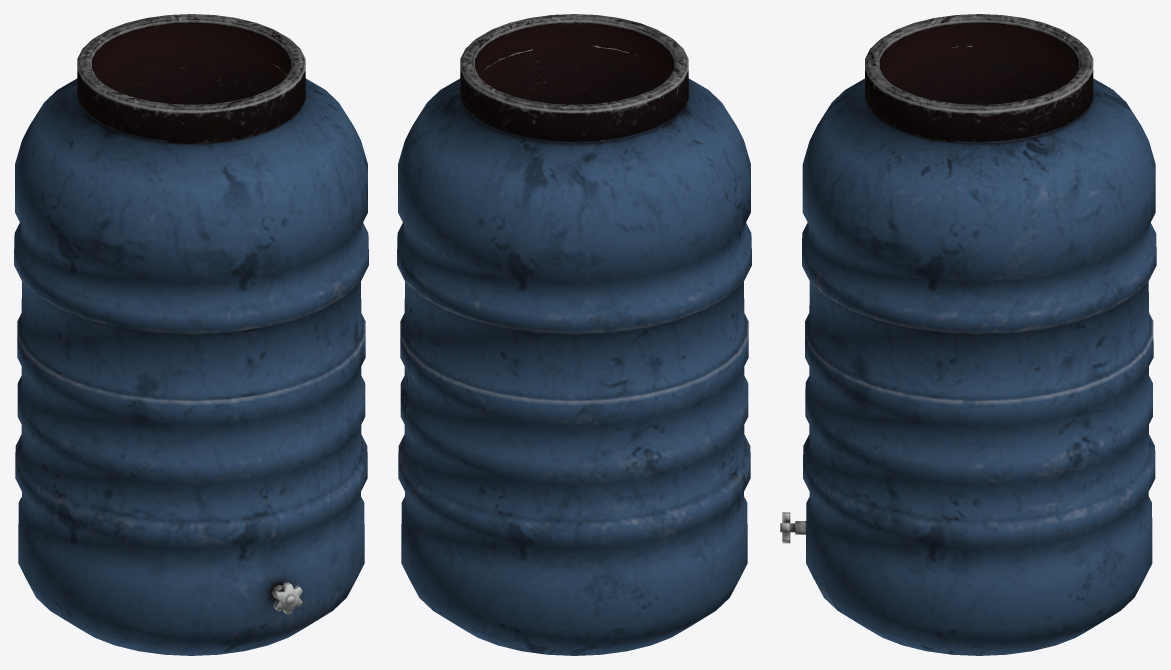
File: SM_FAR_MilkBarrel_05.fbx
The picture shows the model from 3 angles, left to right: view 1: azimuth 30°, elevation 25°; view 2: azimuth 150°, elevation 25°; view 3: azimuth 270°, elevation 25°; orthographic projection.
Visible parts, largest first — view 1: SM_FAR_MilkBarrel_05.mo; view 2: SM_FAR_MilkBarrel_05.mo; view 3: SM_FAR_MilkBarrel_05.mo.
Boxes of the visible parts, left/top/right/bottom form: SM_FAR_MilkBarrel_05.mo: left=14, top=14, right=368, bottom=655; SM_FAR_MilkBarrel_05.mo: left=397, top=14, right=751, bottom=655; SM_FAR_MilkBarrel_05.mo: left=780, top=14, right=1156, bottom=655.
Bounding box in the file's own units: 98.65 × 165 × 104.
